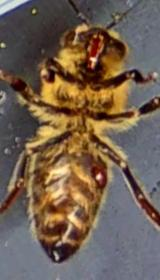varroa_mite: (80, 154, 118, 190)
